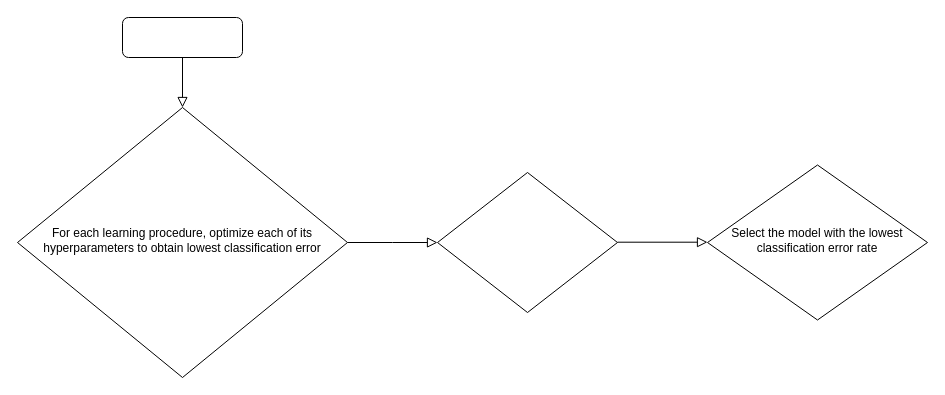
The diagram is 945 pixels wide and 395 high, and some of its shapes have lost their labels. Here are the shapes that lost their labels. From the top down, the box of each, then its label:
(122, 16, 242, 58): Select 3 learning procedures
(436, 172, 618, 312): Test each model on the different training / test sets
